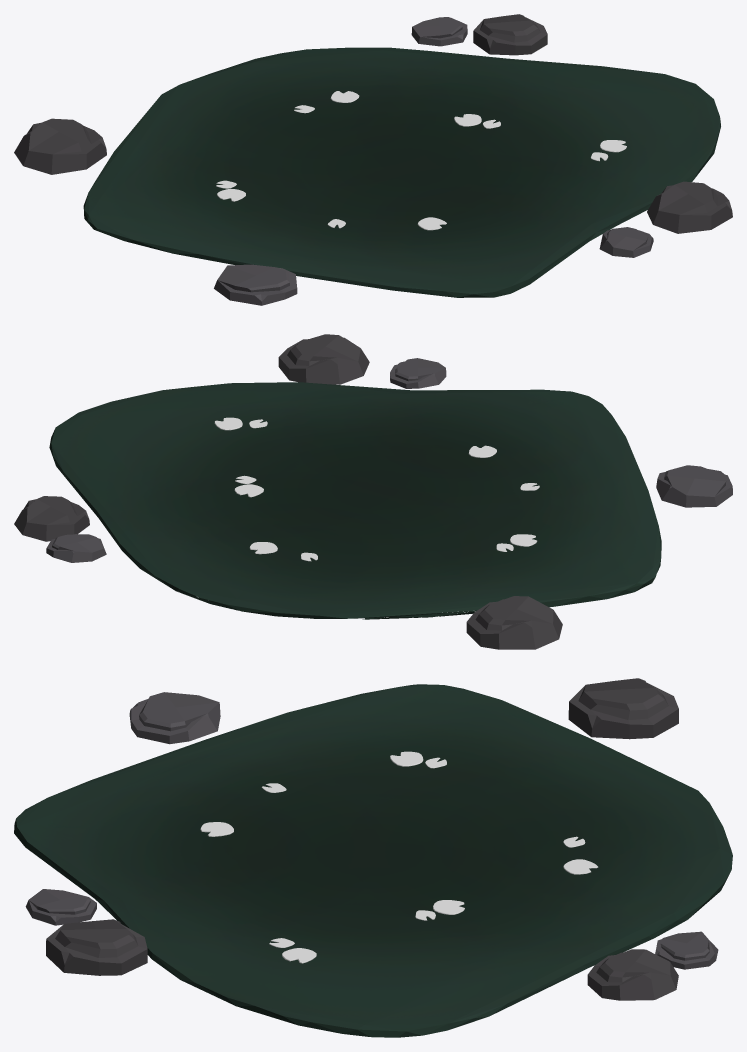
Rendered from waterlake_noleaf_big.fbx.
The picture shows the model from 3 angles, top to bottom: view 1: azimuth 30°, elevation 25°; view 2: azimuth 150°, elevation 25°; view 3: azimuth 270°, elevation 25°; orthographic projection. The views are drawn at different scales.
Visible parts, largest first — view 1: stone03.008; view 2: stone03.008; view 3: stone03.008.
Boxes of the visible parts, bbox=[...] form: stone03.008: bbox=[14, 14, 732, 305]; stone03.008: bbox=[14, 334, 732, 649]; stone03.008: bbox=[14, 678, 732, 1037].
Bounding box in the file's own units: 4410 × 170 × 3843.
